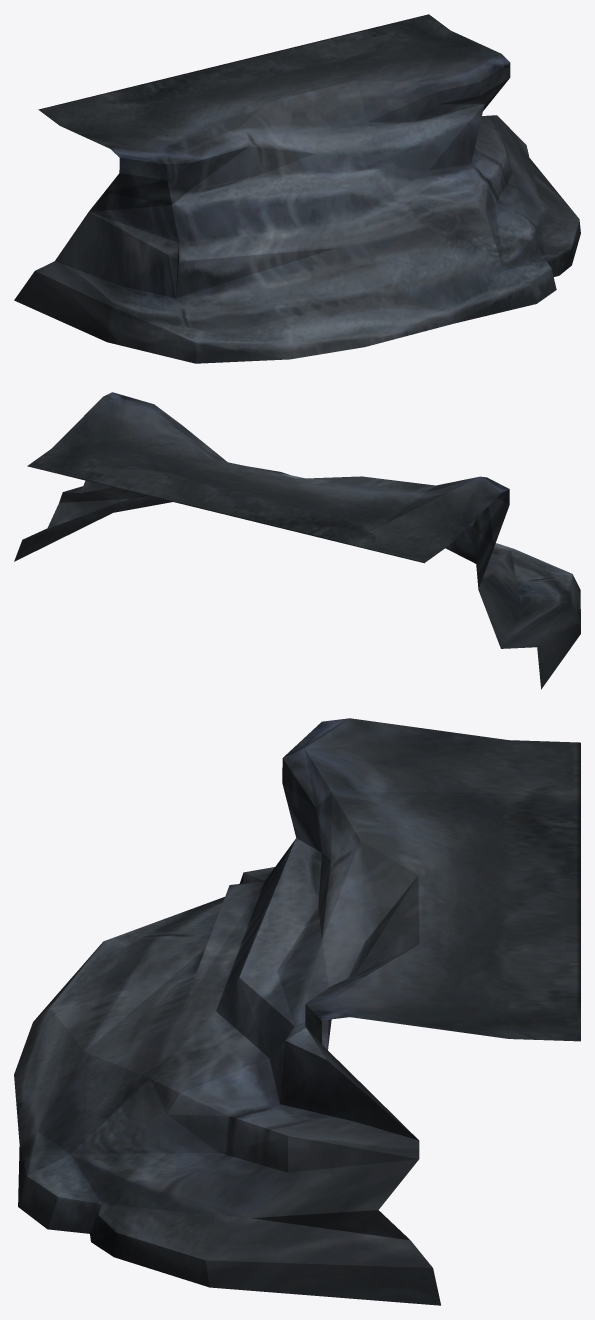
File: mine_quarter_stair_01.fbx
3 views of the same model, one above another, from view 1: azimuth 30°, elevation 25°; view 2: azimuth 150°, elevation 25°; view 3: azimuth 270°, elevation 25° (orthographic). The views are drawn at different scales.
Visible parts, largest first — view 1: obj0.119; view 2: obj0.119; view 3: obj0.119.
Part boxes in pixels (x1,y1,x2,y2): obj0.119: [14, 14, 580, 363]; obj0.119: [14, 392, 580, 689]; obj0.119: [14, 718, 580, 1305].
Bounding box in the file's own units: 5.3 × 1.52 × 3.21.
